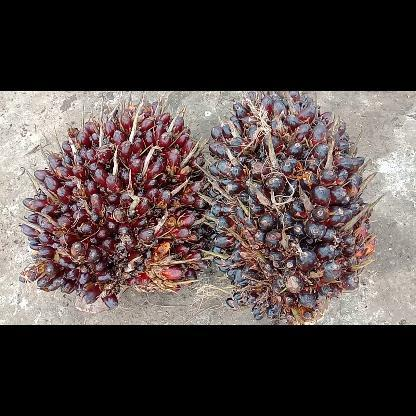Kurang masak: (208, 90, 376, 324)
TBS masak: (17, 91, 209, 311)
